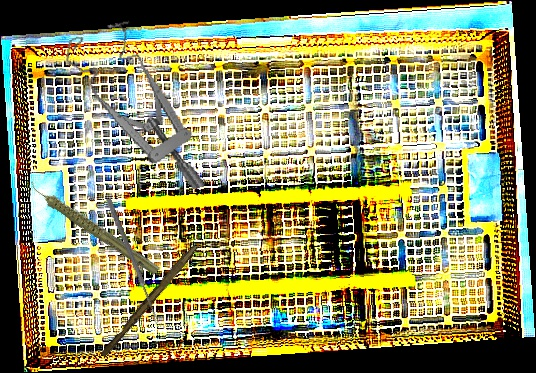Handpiece: (28, 156, 161, 297)
Scalpel Handle: (99, 241, 199, 360)
Speculum: (60, 11, 207, 211)
Surgical Spoon: (105, 197, 161, 325)
